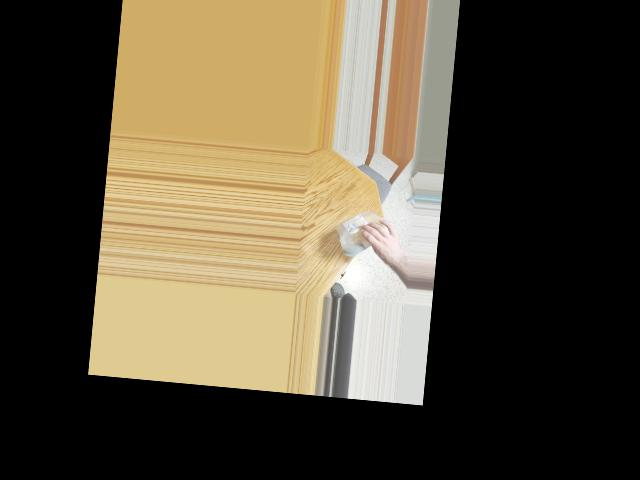cheese: (335, 206, 395, 257)
